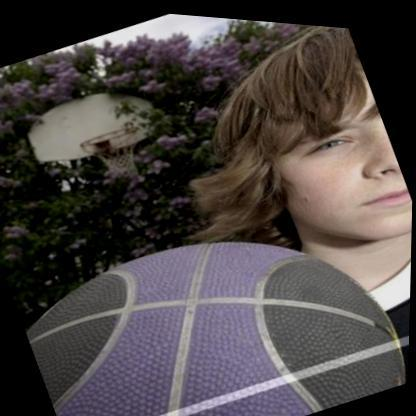basketball: (13, 159, 413, 416)
rim: (77, 115, 141, 153)
